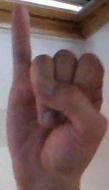I: (1, 0, 109, 190)
